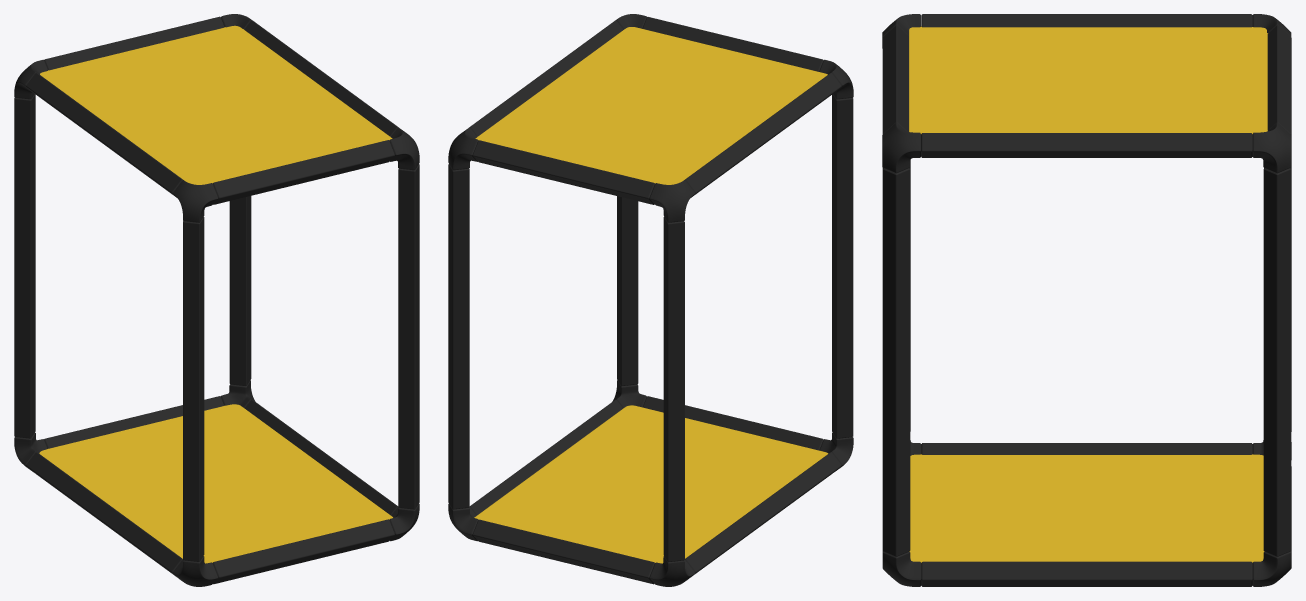
3 views of the same model, side by side, from view 1: azimuth 30°, elevation 25°; view 2: azimuth 150°, elevation 25°; view 3: azimuth 270°, elevation 25° (orthographic). The views are drawn at different scales.
Visible parts, largest first — view 1: 229x329x420; view 2: 229x329x420; view 3: 229x329x420.
Part boxes in pixels (bbox=[...]): 229x329x420: bbox=[14, 14, 419, 586]; 229x329x420: bbox=[448, 14, 853, 586]; 229x329x420: bbox=[882, 14, 1291, 586].
Size of the model in its own units: 0.3067 by 0.4976 by 0.4063.
